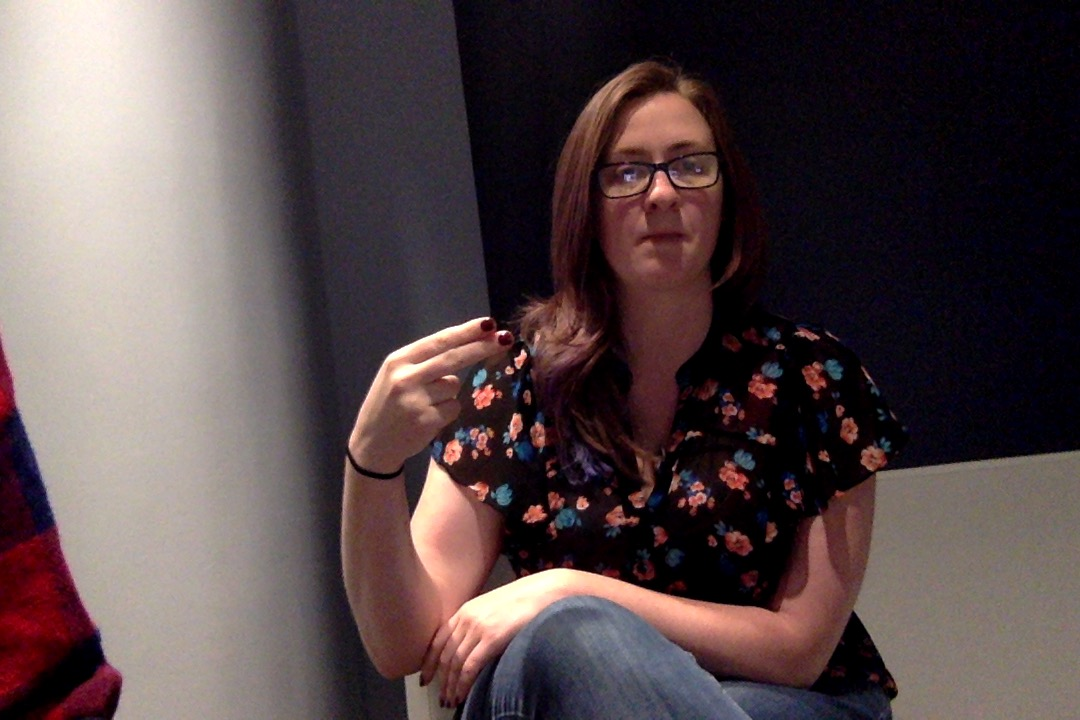h: (324, 300, 530, 500)
